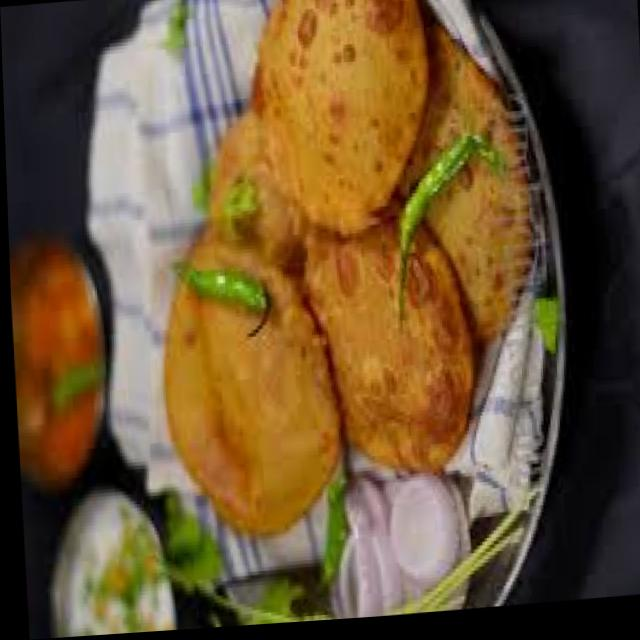POORI: (161, 0, 530, 542)
